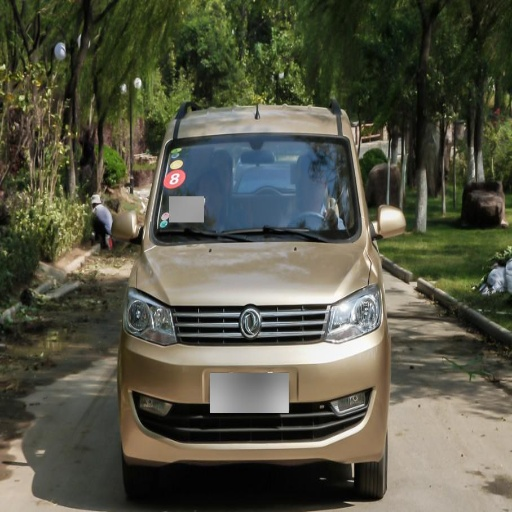front_bumper: (123, 303, 384, 458)
front_right_light: (125, 287, 177, 344)
hood: (140, 240, 371, 307)
